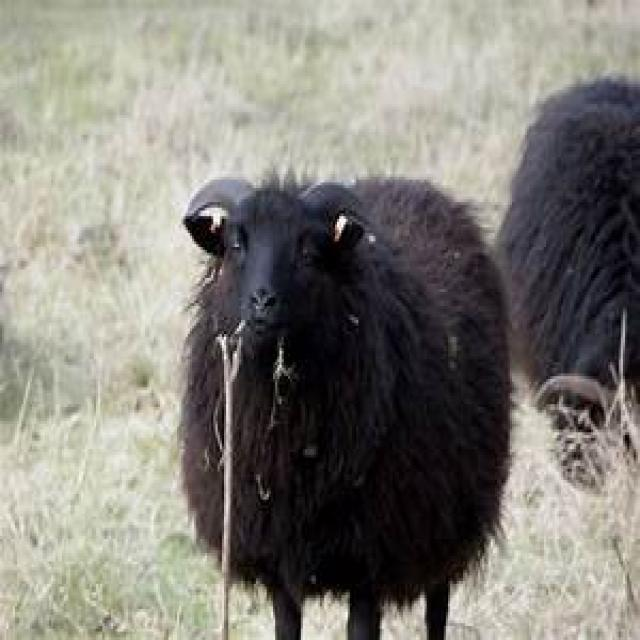animal: (177, 177, 506, 640)
